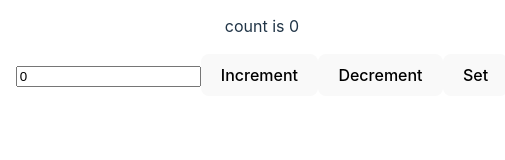
Test: #App Counter › should set counter to 2 after increment button is double clicked
Double-click the button "Increment" at {"x": 260, "y": 75}, box [201, 54, 318, 96]
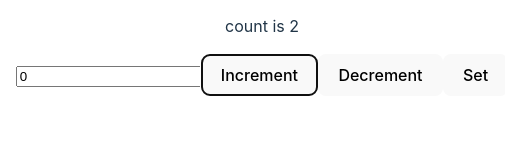
Result: the text "count is 2" is shown at [225, 16, 299, 36]
